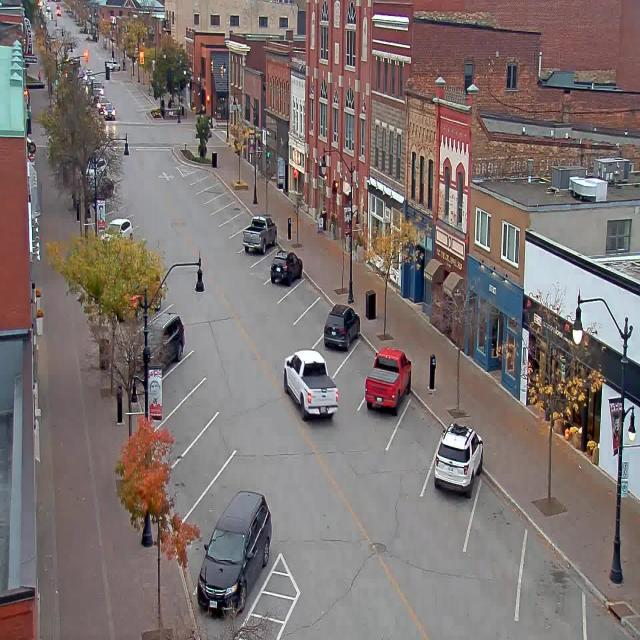available: (462, 452, 542, 580), (510, 514, 595, 634), (174, 402, 246, 497), (388, 371, 451, 473), (198, 448, 268, 538), (165, 371, 223, 450), (158, 329, 214, 401), (340, 320, 388, 389), (579, 596, 640, 640), (300, 286, 340, 338), (284, 261, 320, 311), (256, 224, 286, 265), (235, 201, 258, 234), (224, 193, 246, 221), (218, 182, 236, 211), (210, 175, 227, 202), (193, 158, 210, 183), (203, 167, 220, 191)
occupied: (196, 489, 272, 616), (434, 421, 484, 497), (364, 346, 412, 414), (142, 310, 185, 364), (323, 303, 360, 351), (242, 214, 277, 254), (270, 249, 303, 286)
